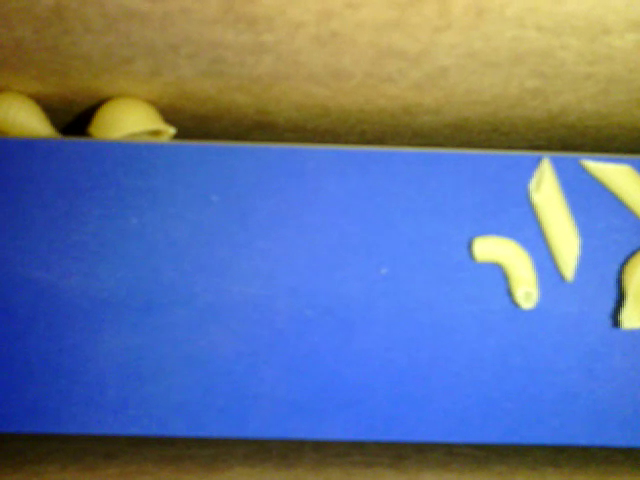elbow: (473, 230, 538, 309)
penne: (523, 153, 582, 285), (577, 159, 639, 218)
shell: (88, 95, 177, 143), (1, 85, 67, 139), (612, 243, 639, 330)
